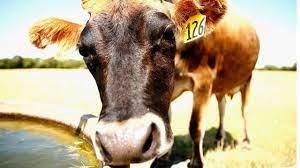cow: (32, 0, 260, 168)
